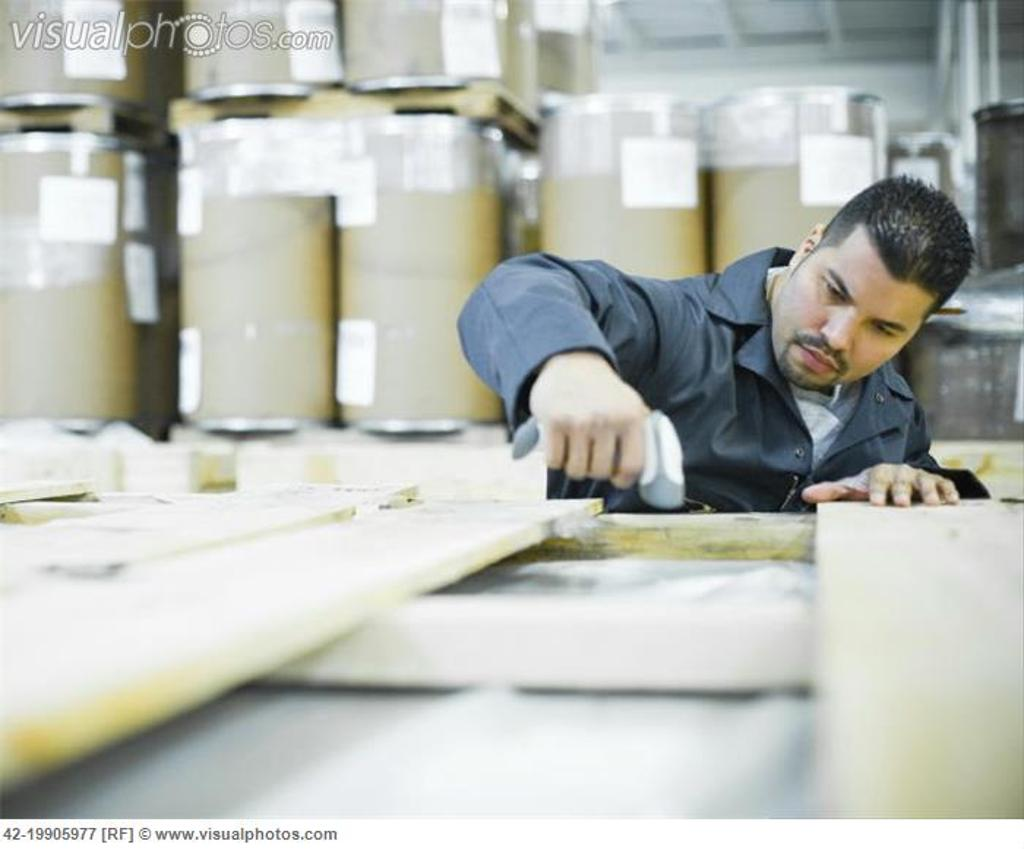face: (792, 230, 896, 384)
